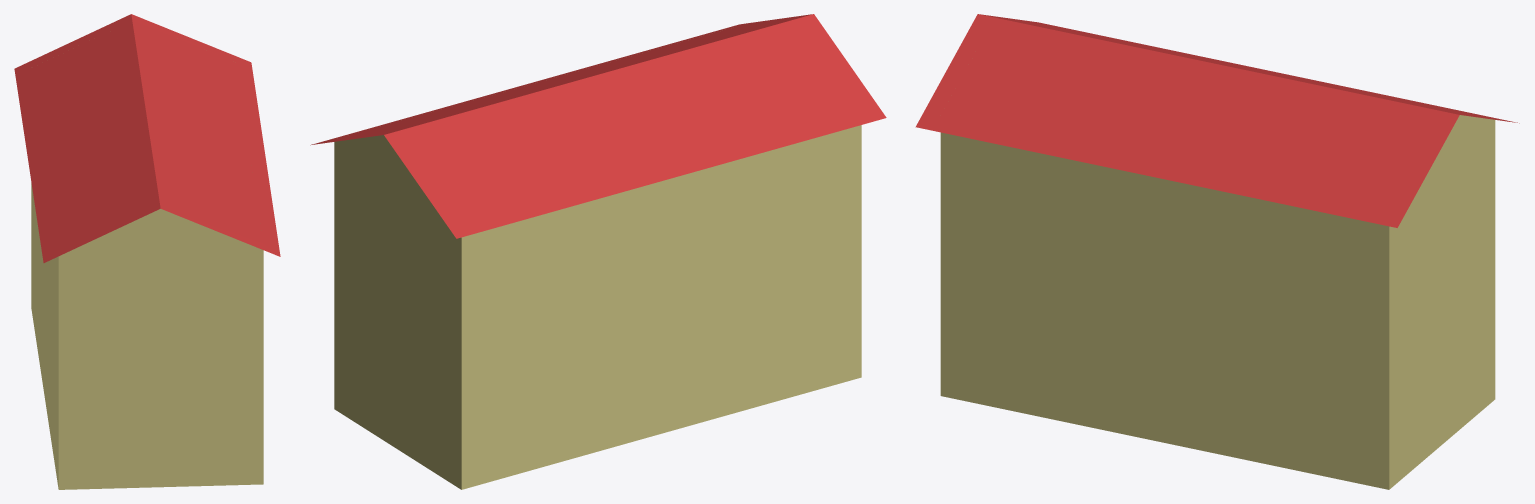
The picture shows the model from 3 angles, left to right: view 1: azimuth 30°, elevation 25°; view 2: azimuth 150°, elevation 25°; view 3: azimuth 270°, elevation 25°; orthographic projection. The views are drawn at different scales.
Size of the model in its own units: 6.5 by 8.07 by 4.89.
